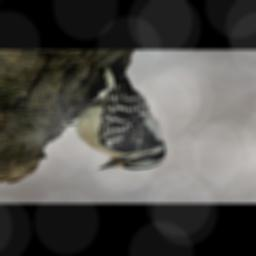Woodpecker: (44, 54, 169, 172)
